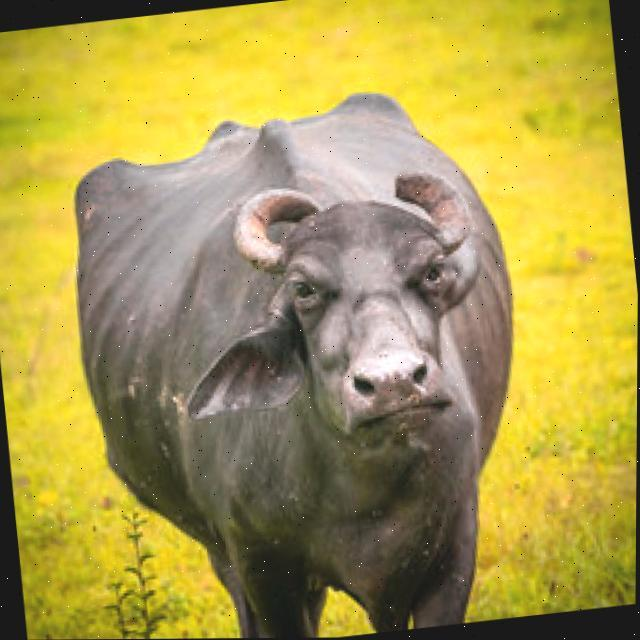Buffalo: (48, 71, 549, 640)
